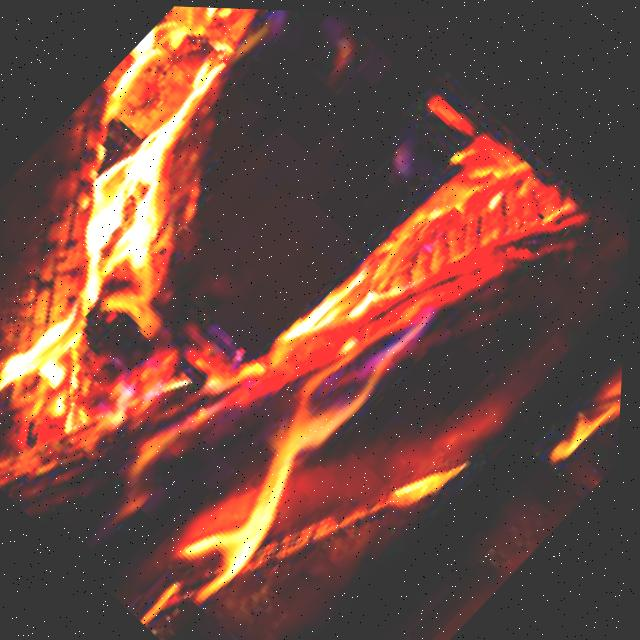Fire: (0, 0, 388, 471), (90, 270, 451, 640)
